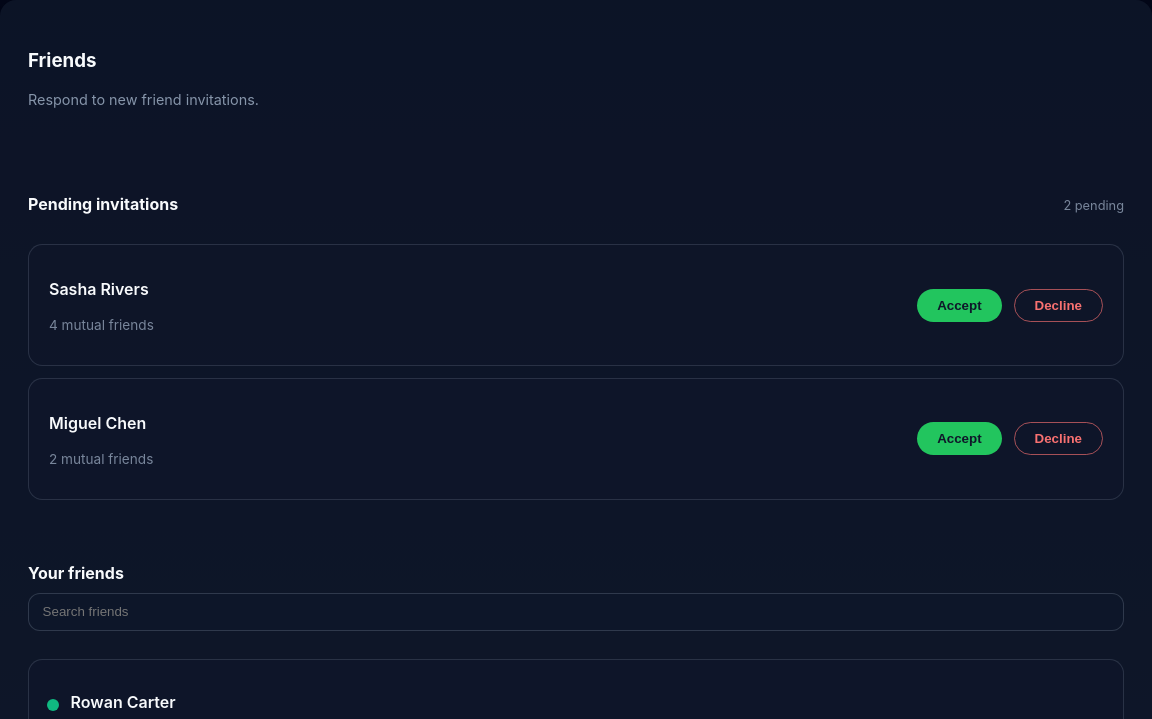
FriendListManagerView › filters friends using the search box
Type "rowan" into the search field with placeholder "Search friends" at (576, 612), box [28,593,1124,631]
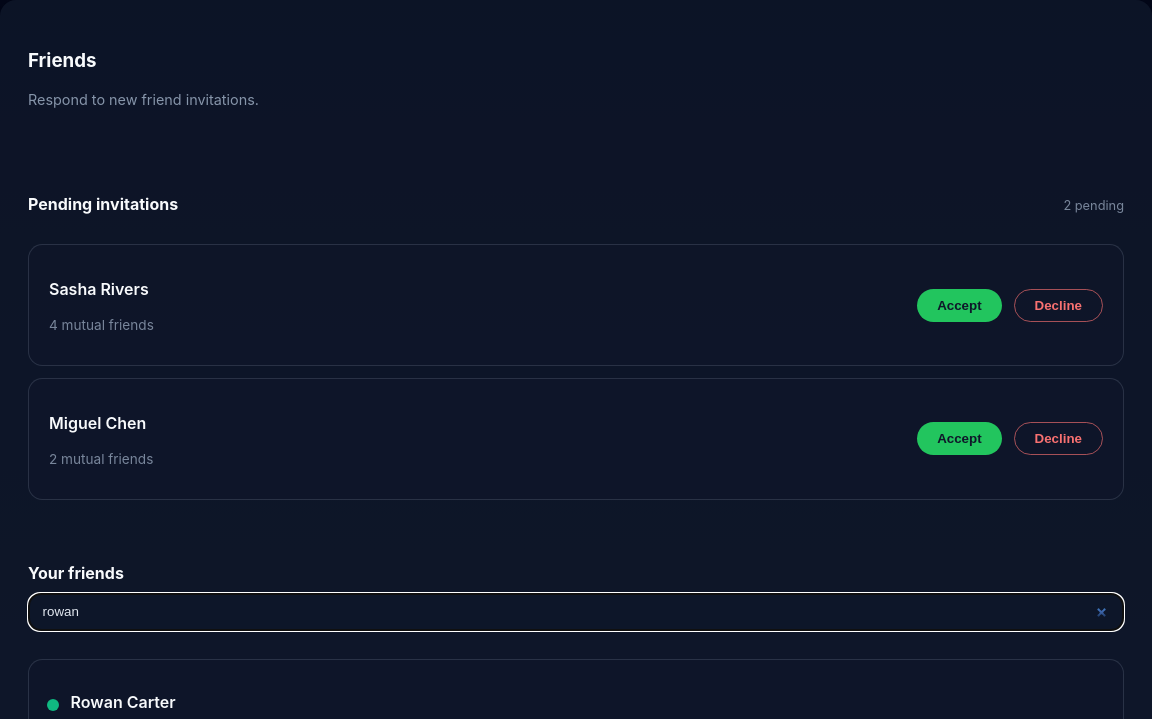
Expected: the text "Rowan Carter" is shown, [71,690,176,714]
Replace the text in the search field with placeholder "Search friends" with "zzz" at (576, 612), box [28,593,1124,631]
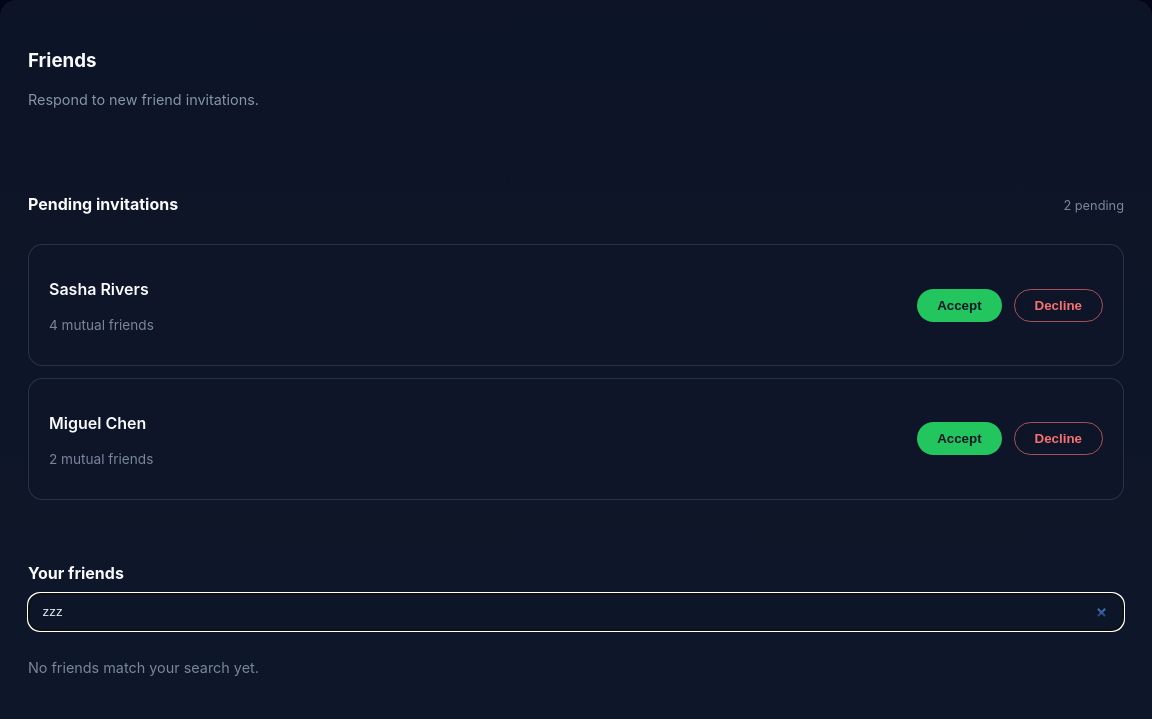
Result: the text "No friends match your search yet." is shown at [28,659,259,676]
